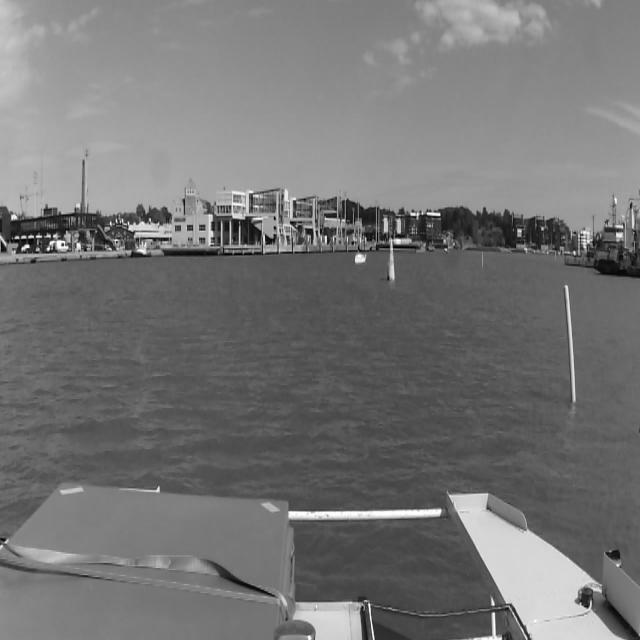buoy: (562, 285, 578, 399), (386, 242, 396, 280), (320, 236, 322, 252)
ship: (601, 201, 638, 273), (565, 220, 621, 265), (131, 242, 151, 257), (355, 248, 367, 262)
